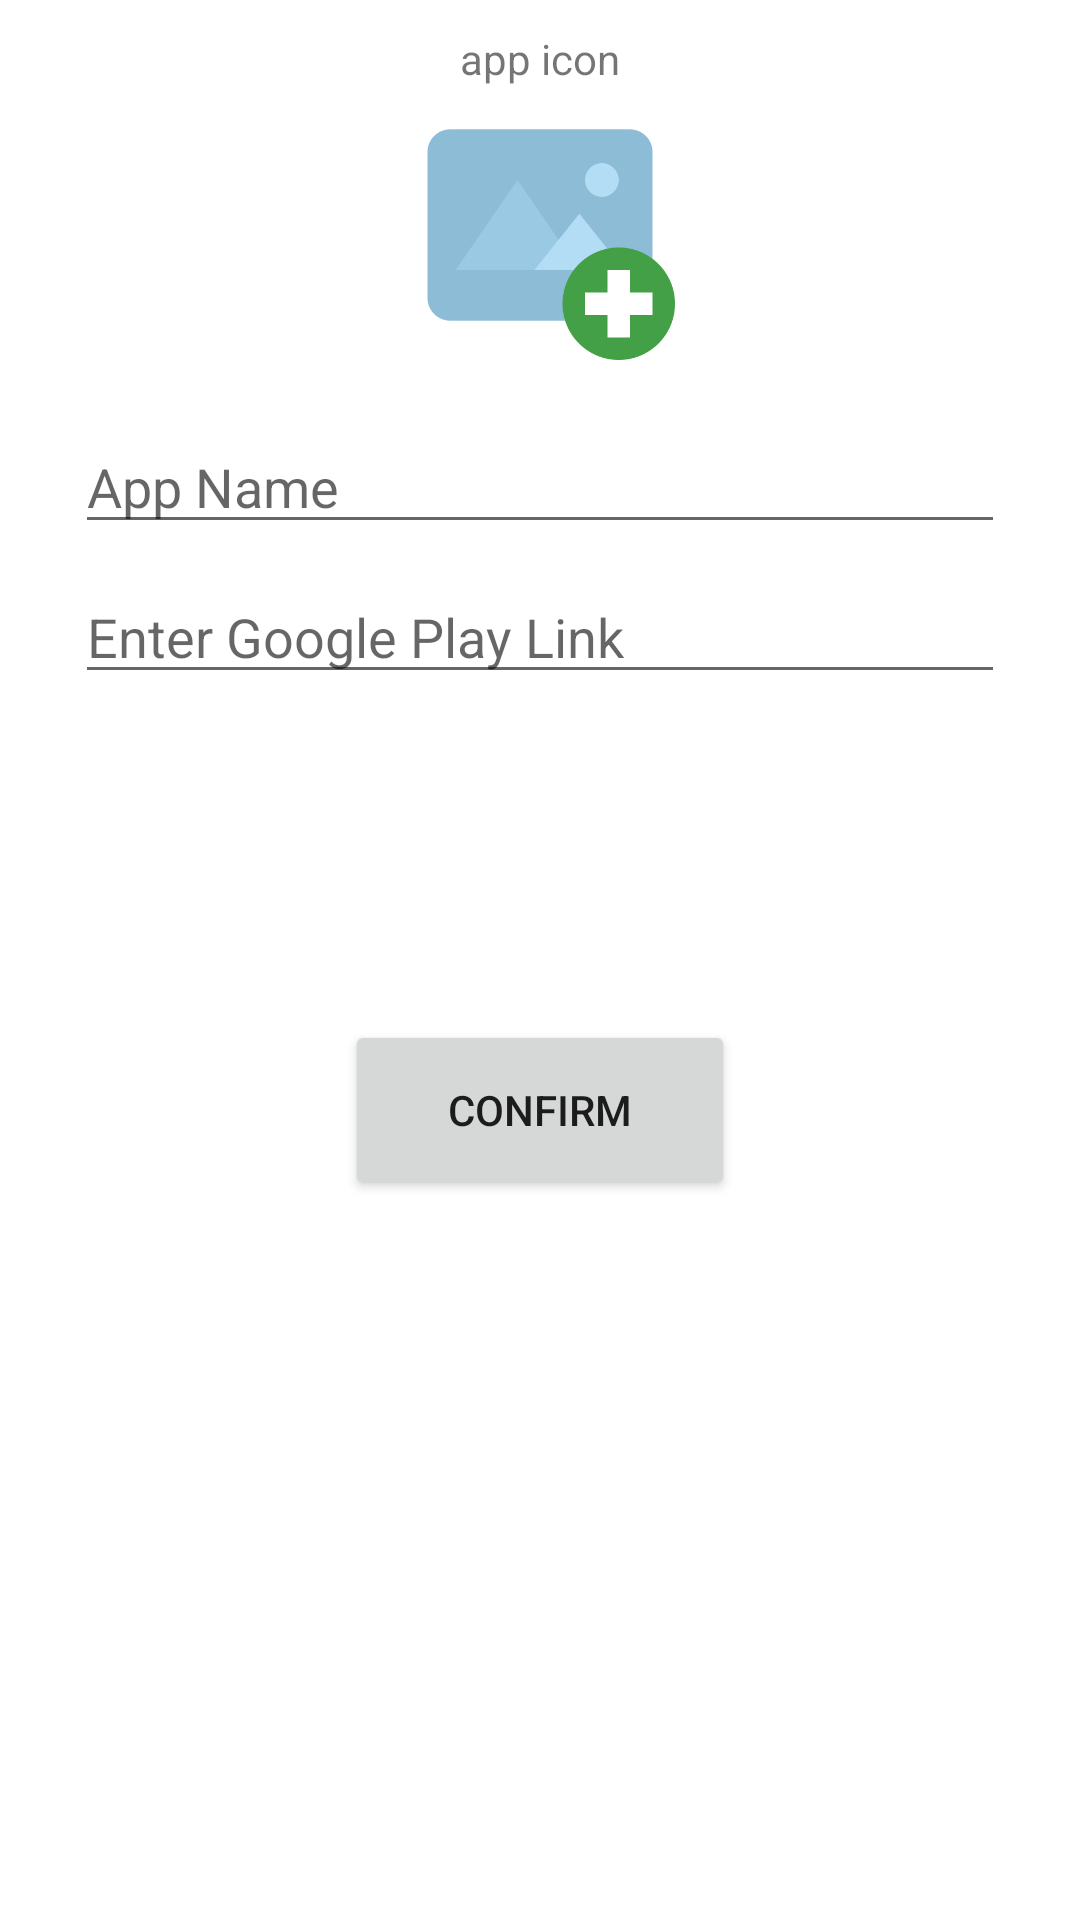

Screen size 1080x1920. Icon name, then its box in pixels as (x1, y1, x2, y2):
add: (427, 129, 675, 360)
